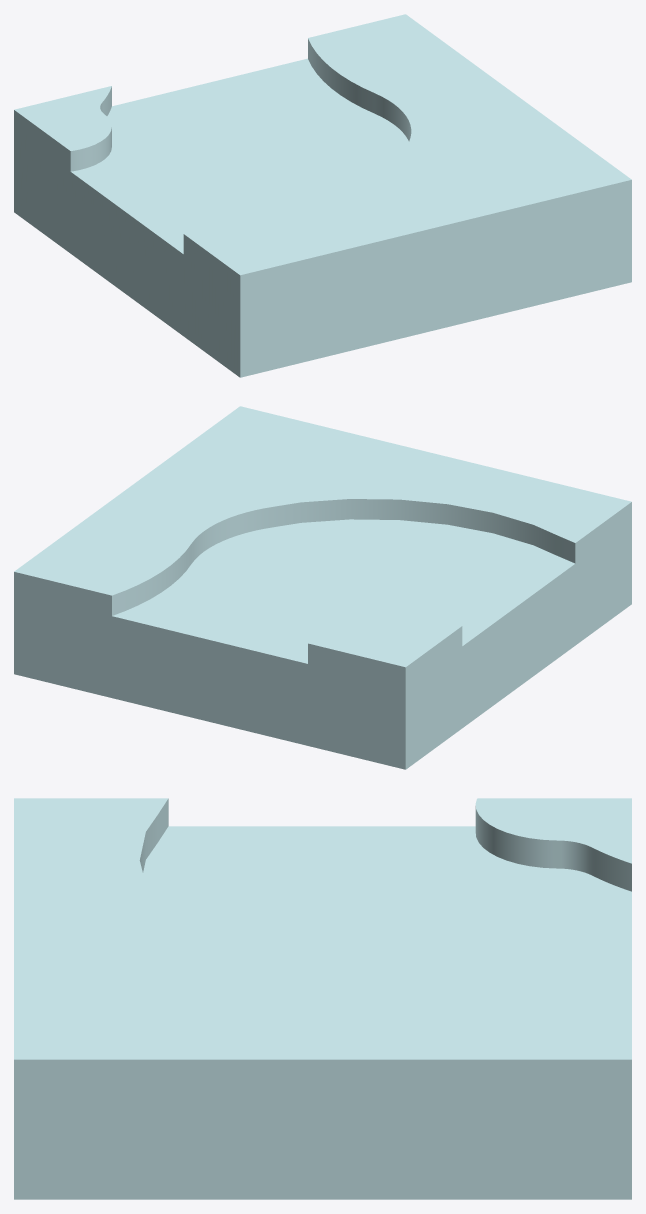
Rendered from ground_dirtRiverCorner.fbx.
The picture shows the model from 3 angles, top to bottom: view 1: azimuth 30°, elevation 25°; view 2: azimuth 150°, elevation 25°; view 3: azimuth 270°, elevation 25°; orthographic projection. The views are drawn at different scales.
Visible parts, largest first — view 1: ground_dirtRiverCorner; view 2: ground_dirtRiverCorner; view 3: ground_dirtRiverCorner.
Part boxes in pixels (x1,y1,x2,y2): ground_dirtRiverCorner: [14, 14, 631, 377]; ground_dirtRiverCorner: [14, 406, 631, 769]; ground_dirtRiverCorner: [14, 798, 631, 1199].
Size of the model in its own units: 300 by 75 by 300.
